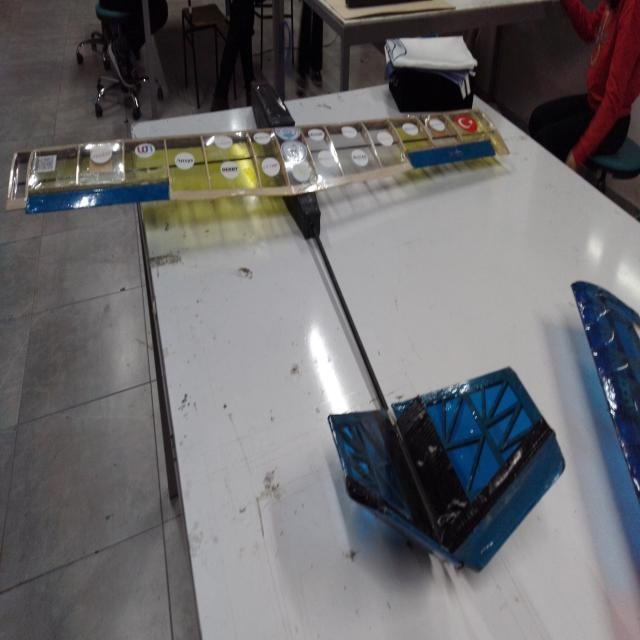iha: (5, 65, 577, 582)
